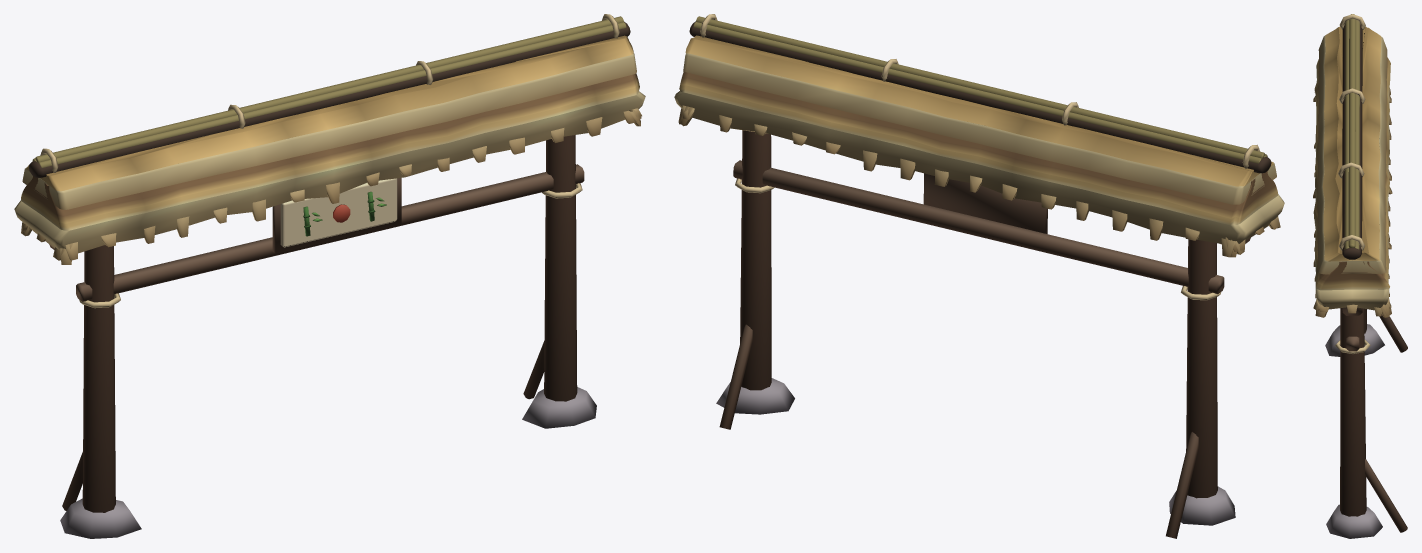
The model's file is zv-bamboo-gate.glb.
3 renders of one model, left to right at view 1: azimuth 30°, elevation 25°; view 2: azimuth 150°, elevation 25°; view 3: azimuth 270°, elevation 25°, orthographic. The views are drawn at different scales.
Parts seen in each view (by area): view 1: zv-bamboo-gate; view 2: zv-bamboo-gate; view 3: zv-bamboo-gate.
Part boxes in pixels (bbox=[...]): zv-bamboo-gate: bbox=[14, 14, 645, 538]; zv-bamboo-gate: bbox=[674, 14, 1284, 538]; zv-bamboo-gate: bbox=[1313, 14, 1407, 538].
Size of the model in its own units: 4.63 by 3 by 0.8017.
